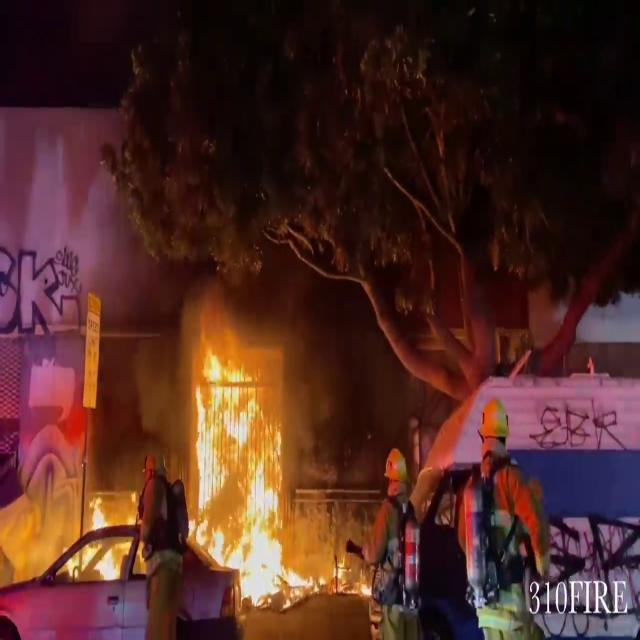Fire: (184, 340, 299, 602), (70, 481, 130, 582)
